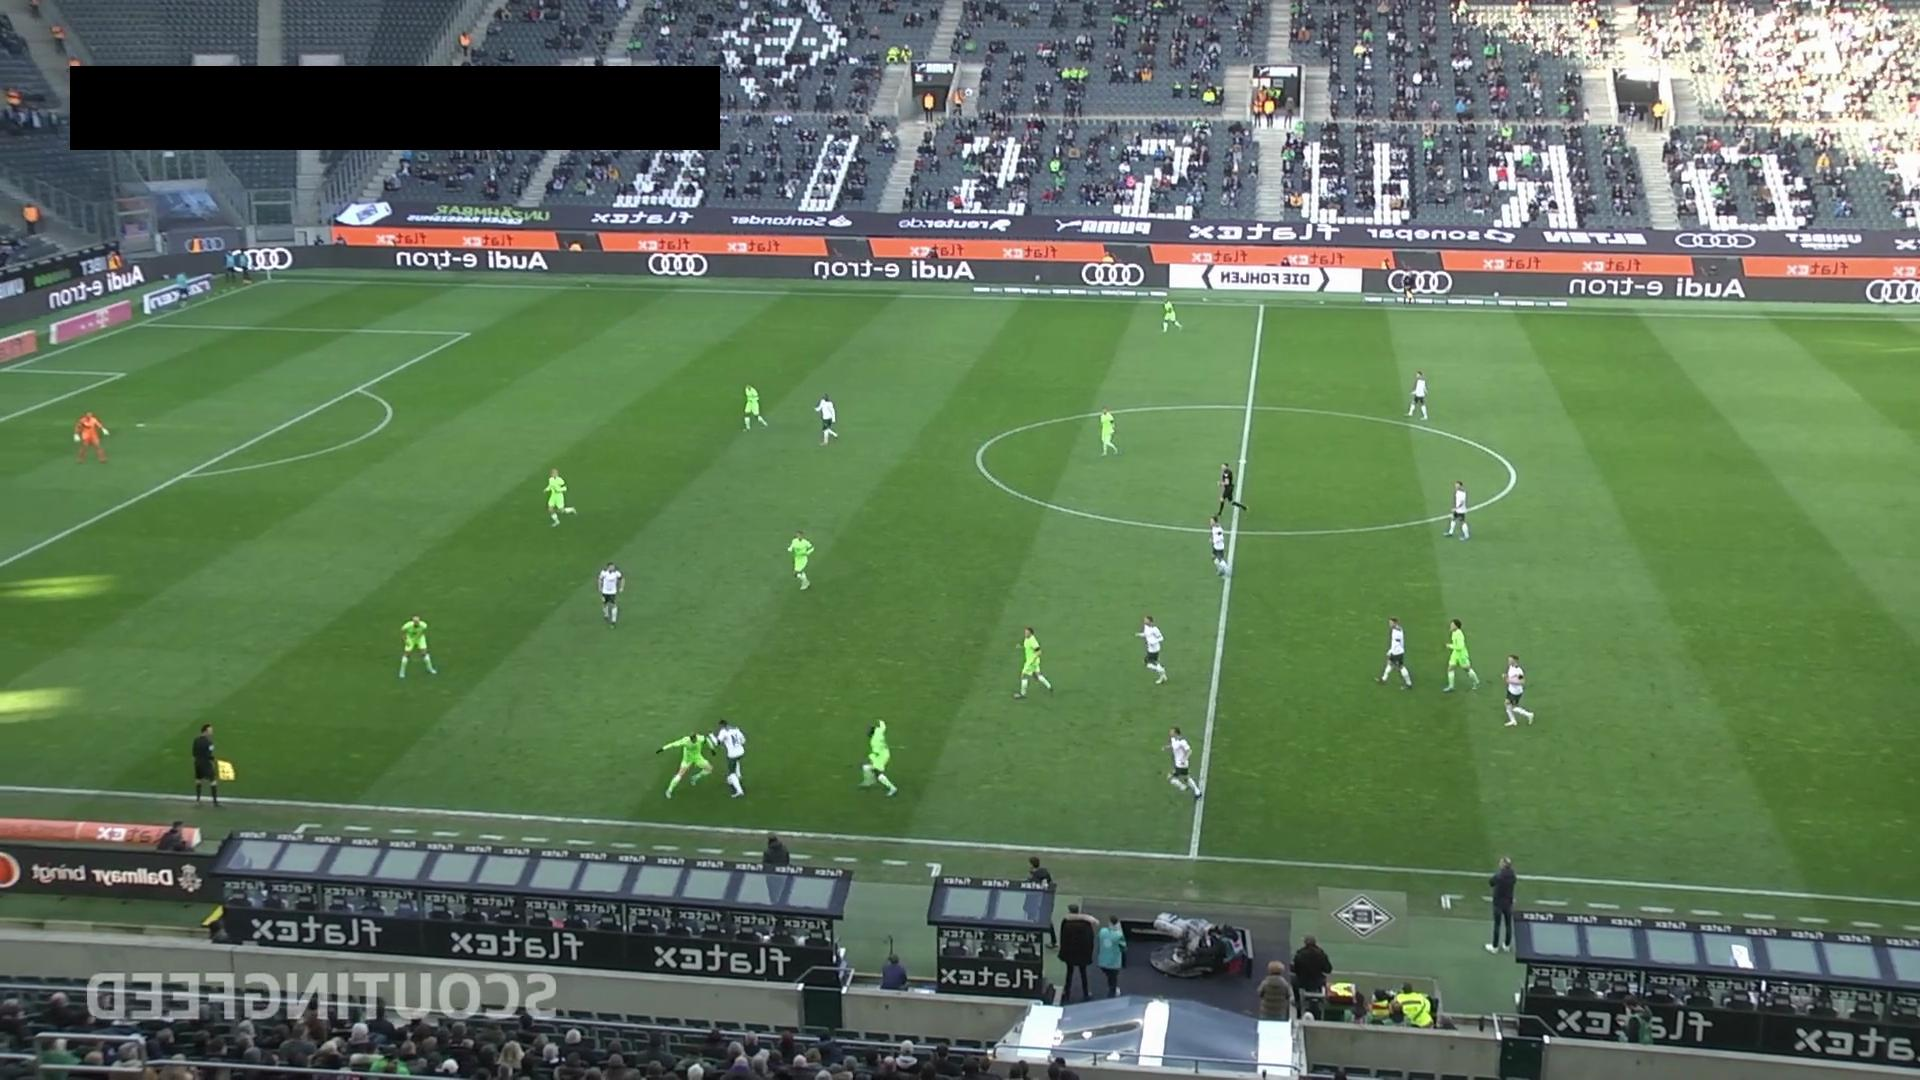ball: (725, 772, 738, 787)
goalkeeper: (74, 411, 110, 464)
player: (655, 731, 717, 798), (1160, 725, 1203, 800), (858, 719, 898, 797), (1441, 618, 1480, 694), (1014, 625, 1054, 699), (711, 718, 746, 798), (1376, 616, 1413, 689), (1501, 653, 1535, 727), (398, 613, 437, 677), (1134, 614, 1168, 685), (543, 466, 577, 530), (598, 561, 624, 627), (1444, 480, 1471, 540), (788, 530, 814, 590), (813, 392, 840, 446), (1209, 515, 1230, 576), (1405, 369, 1429, 420), (743, 384, 769, 431), (1100, 405, 1120, 456), (1160, 299, 1183, 333)
referee: (191, 723, 237, 811), (1216, 463, 1249, 516), (1400, 267, 1415, 306)
